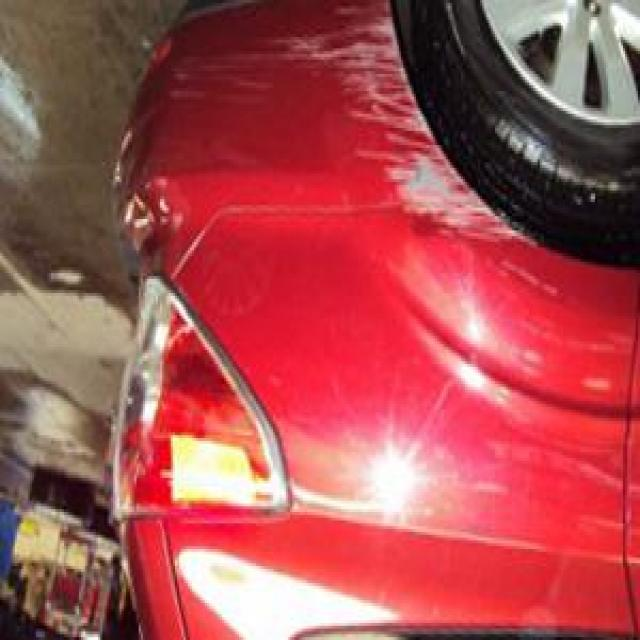scratch: (285, 5, 541, 254)
